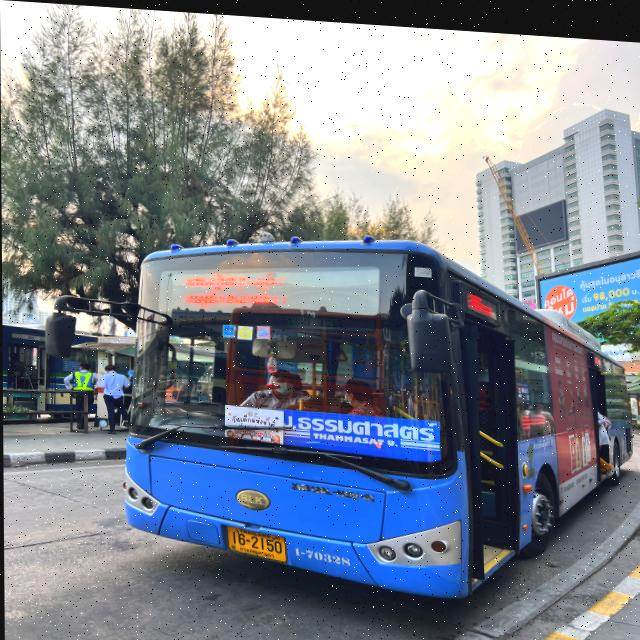BMTA-bus: (120, 221, 631, 606)
Bus-Line-Number: (289, 262, 385, 310)
Destination-Sign-Normal: (277, 402, 444, 458)
